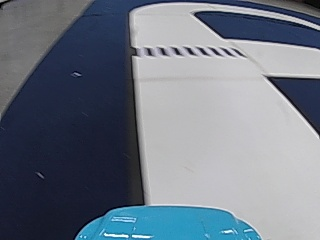CrossWalk: (137, 43, 239, 58)
